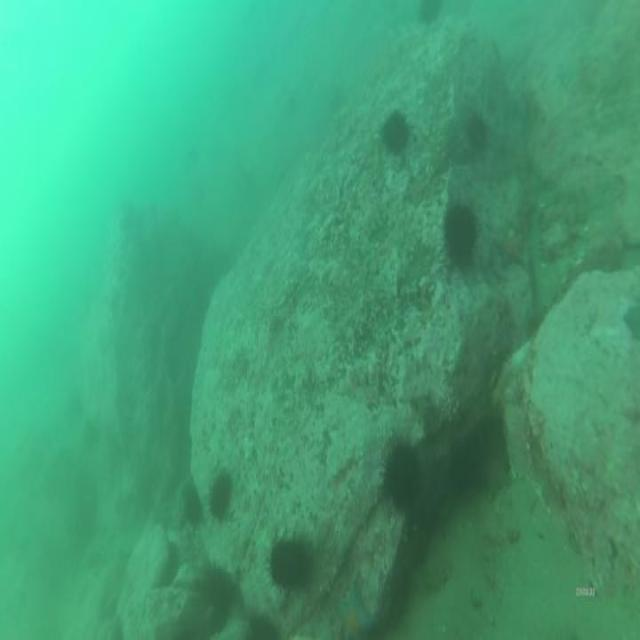echinus: (383, 449, 421, 507), (272, 539, 312, 586), (445, 207, 475, 269), (466, 112, 489, 156), (210, 474, 231, 522), (382, 112, 408, 149), (181, 490, 202, 525)
holothurian: (529, 210, 549, 311)
starfish: (331, 592, 373, 640), (498, 229, 524, 269), (194, 564, 220, 597)
